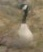goose: (1, 3, 40, 52)
